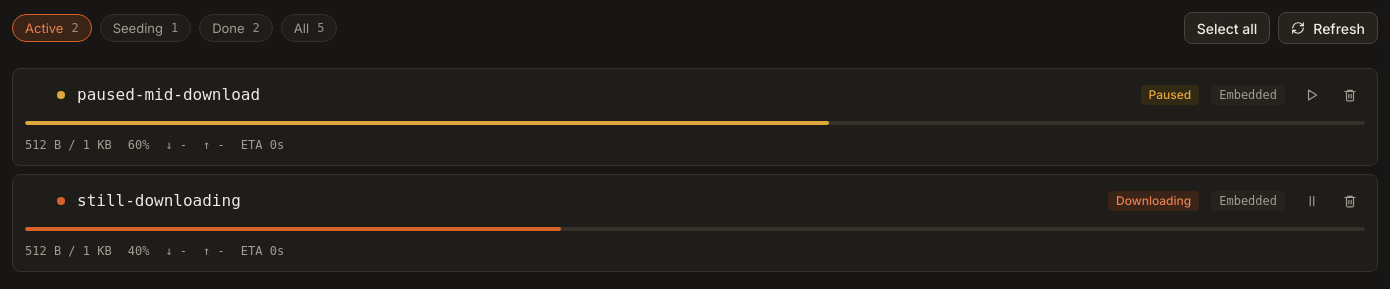
Test case: Queue filtering › shows upload rate and ratio on seeding rows, not a download ETA
Click the button "Seeding 1" at (145, 28), box [100, 14, 191, 42]
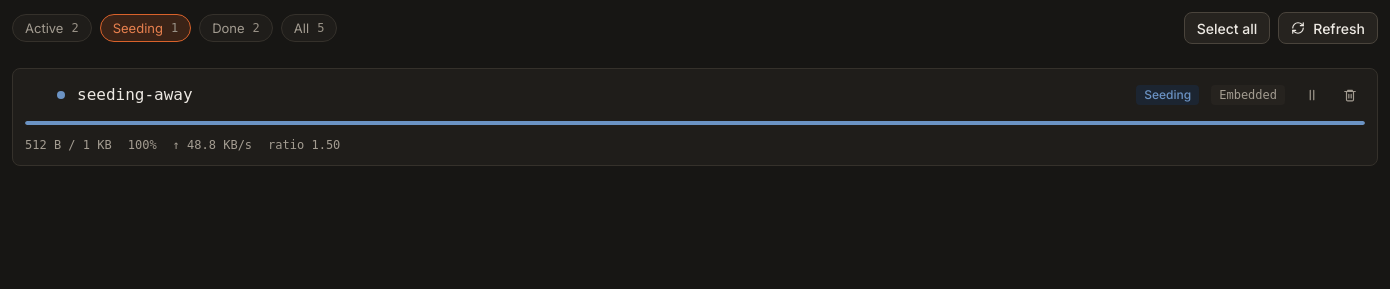
Result: the list item shows "↑" at [173, 138, 252, 152]
Result: the list item shows "ratio 1.50" at [268, 138, 340, 152]
Result: the text "ETA" is gone
